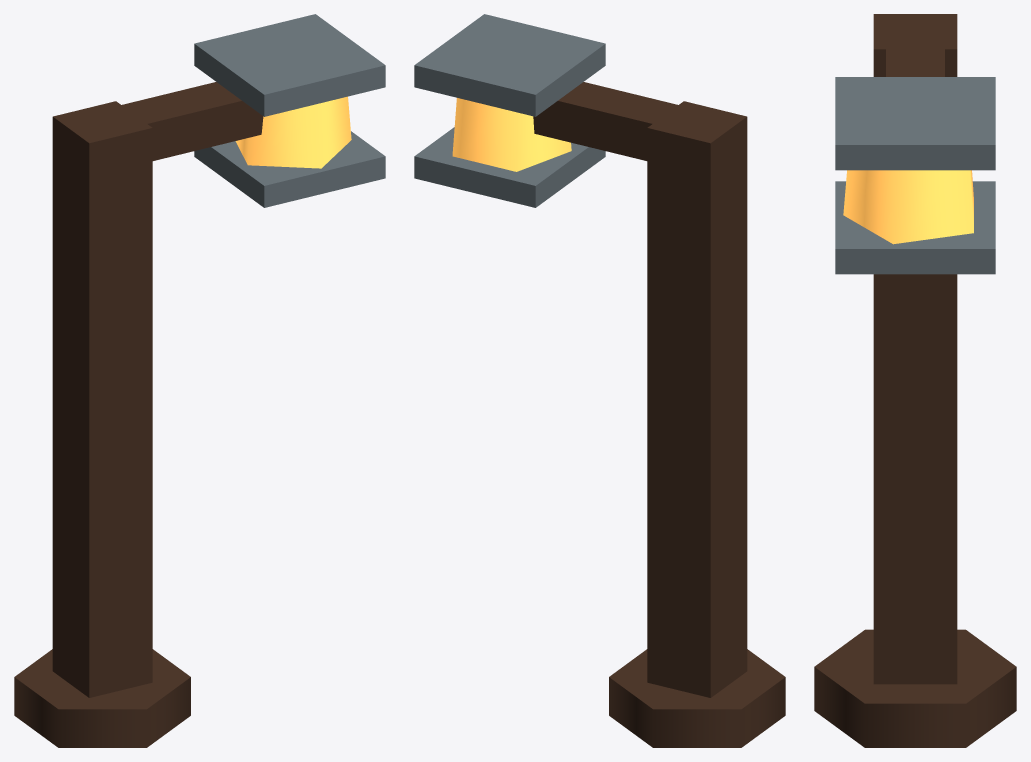
The model's file is branch-lantern-lod2.glb.
3 renders of one model, left to right at view 1: azimuth 30°, elevation 25°; view 2: azimuth 150°, elevation 25°; view 3: azimuth 270°, elevation 25°, orthographic. The views are drawn at different scales.
Parts seen in each view (by area): view 1: MESH_branch_lantern_wood, MESH_branch_lantern_metal, MESH_branch_lantern_glass; view 2: MESH_branch_lantern_wood, MESH_branch_lantern_metal, MESH_branch_lantern_glass; view 3: MESH_branch_lantern_wood, MESH_branch_lantern_metal, MESH_branch_lantern_glass.
Part boxes in pixels (left/top/right/bottom): MESH_branch_lantern_wood: left=14, top=82, right=263, bottom=747; MESH_branch_lantern_metal: left=194, top=14, right=385, bottom=207; MESH_branch_lantern_glass: left=235, top=96, right=351, bottom=168; MESH_branch_lantern_wood: left=533, top=82, right=785, bottom=747; MESH_branch_lantern_metal: left=414, top=14, right=605, bottom=207; MESH_branch_lantern_glass: left=452, top=98, right=571, bottom=171; MESH_branch_lantern_wood: left=814, top=14, right=1016, bottom=747; MESH_branch_lantern_metal: left=835, top=77, right=995, bottom=274; MESH_branch_lantern_glass: left=843, top=170, right=973, bottom=244.
Bounding box in the file's own units: 2.38 × 4.46 × 1.16.
